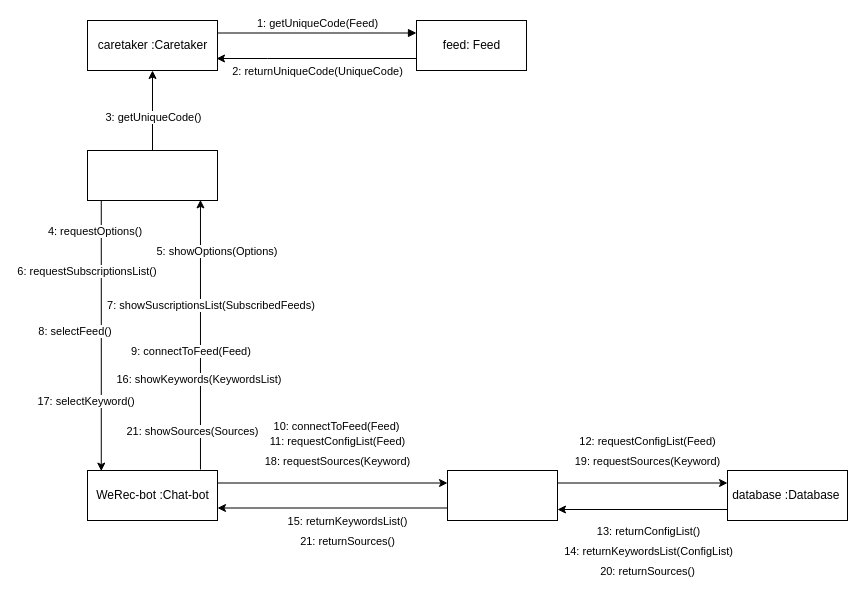
This 865x595 diagram has some shape labels left out. The centre of each missing label's shape, as x and y in pixels:
"server :Server" goes at point 502,495.
"ward :Ward" goes at point 152,175.
